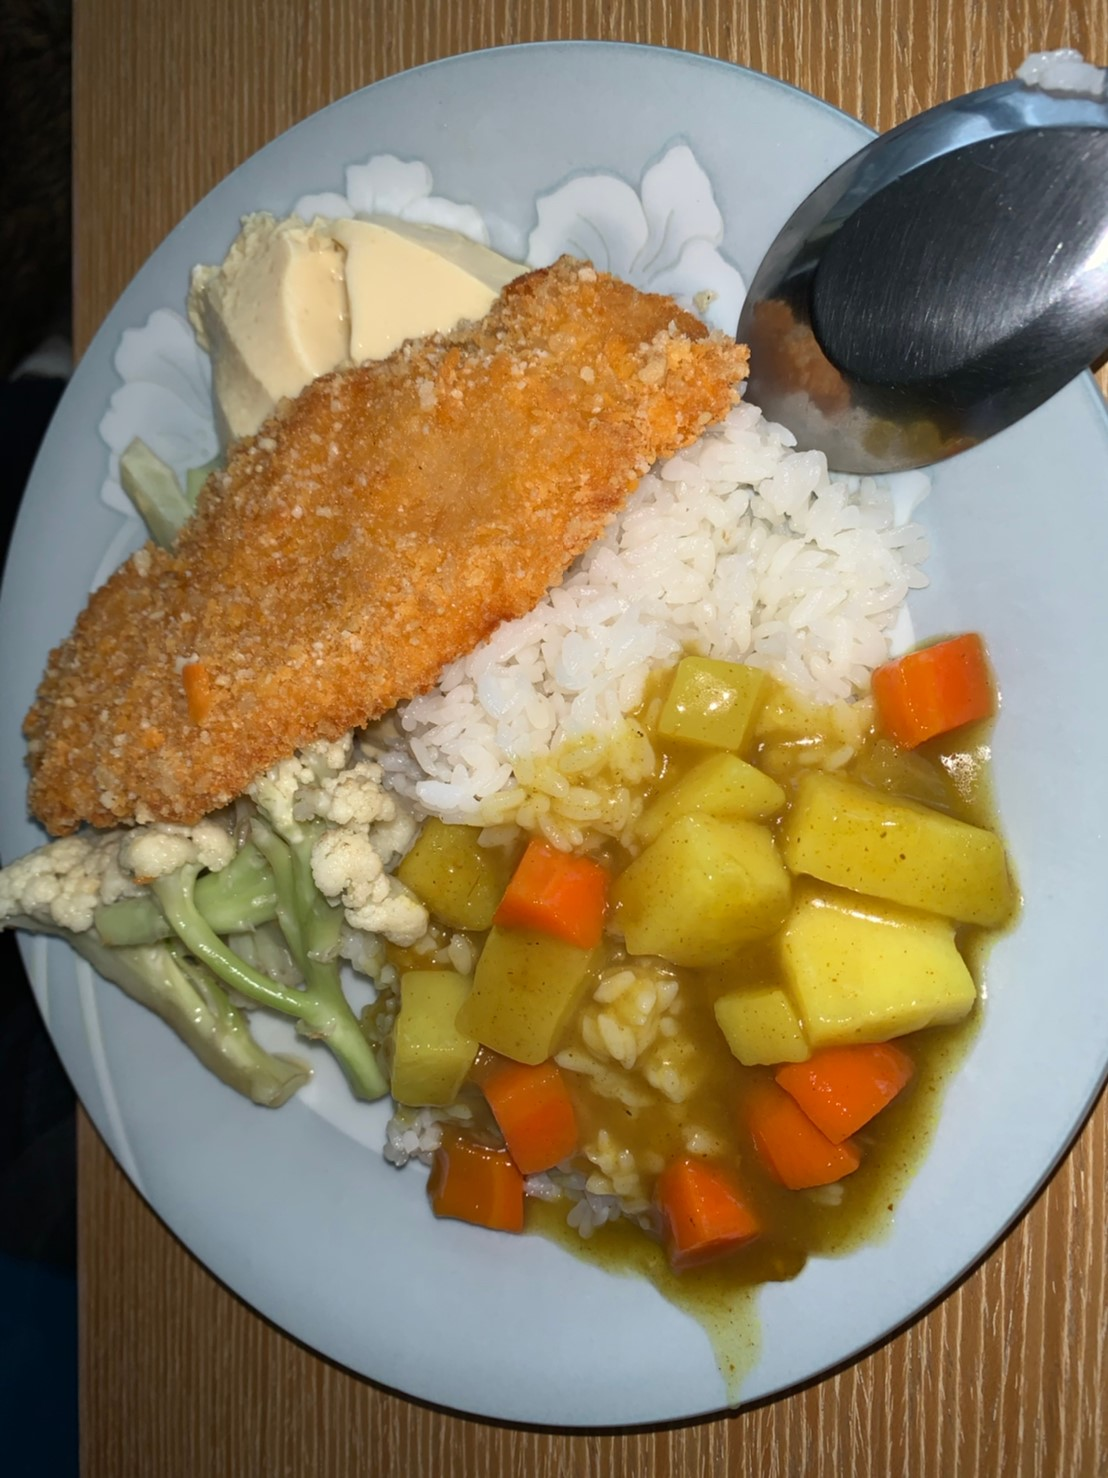curry: (363, 626, 1008, 1286)
fried_chicken: (20, 260, 745, 827)
rice: (416, 395, 933, 812)
